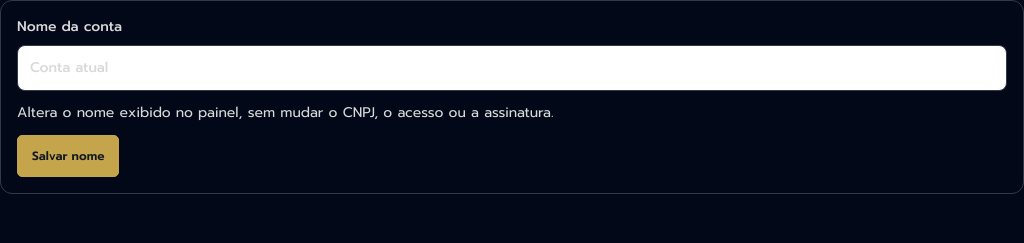
Test: extrator: importação e conta › salva somente o nome da conta
Replace the text in the field labelled "Nome da conta" with "Conta de teste" at [512, 68], box [17, 45, 1007, 91]
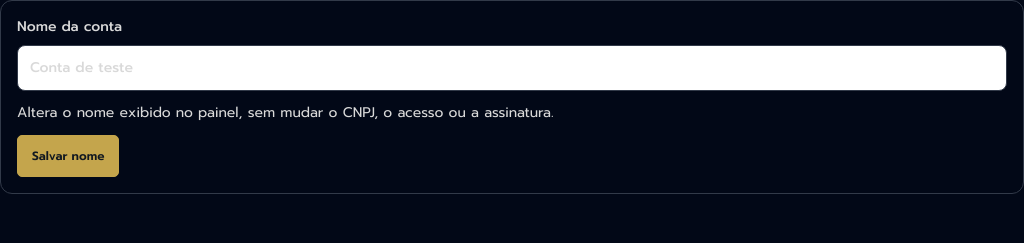
Click the button "Salvar nome" at [68, 156], box [17, 135, 119, 177]
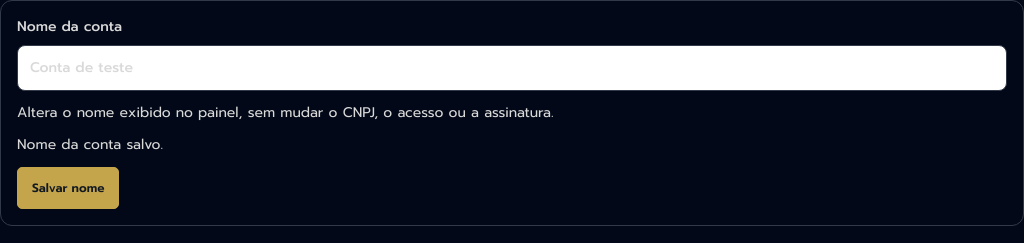
Expected: the message shows "salvo", [17, 134, 163, 155]
